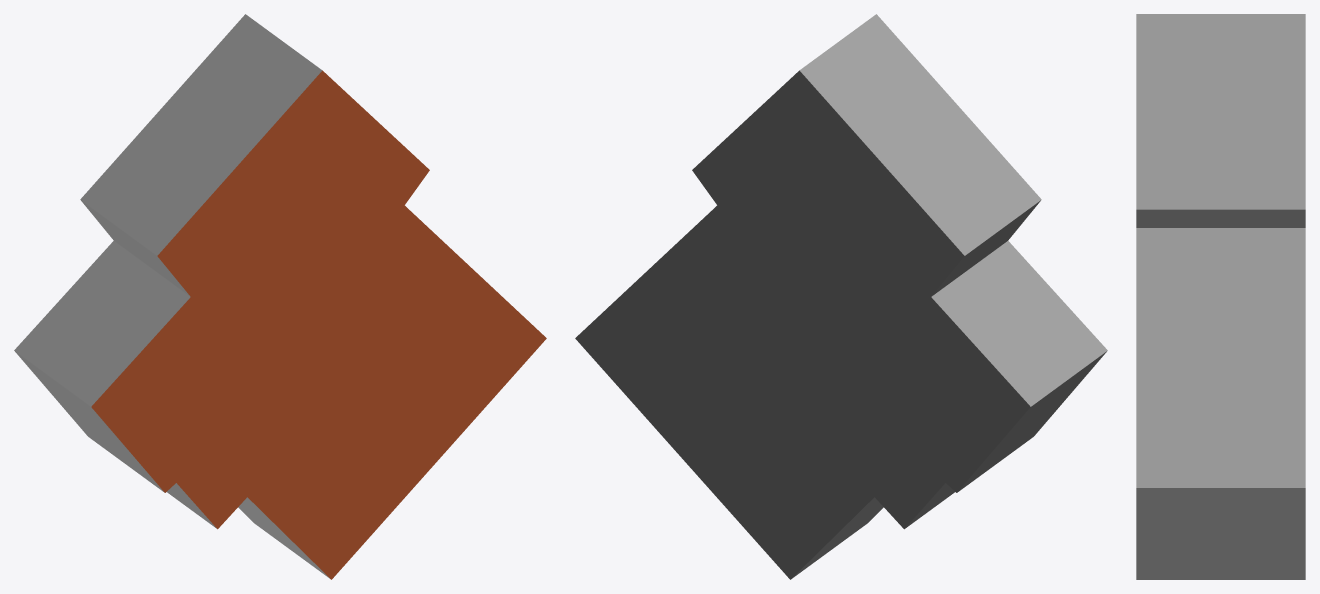
File: construction_2954_assumed_A_Casa_h6m.obj
The picture shows the model from 3 angles, left to right: view 1: azimuth 30°, elevation 25°; view 2: azimuth 150°, elevation 25°; view 3: azimuth 270°, elevation 25°; orthographic projection. The views are drawn at different scales.
Parts seen in each view (by area): view 1: construction_2954_assumed_A_Casa; view 2: construction_2954_assumed_A_Casa; view 3: construction_2954_assumed_A_Casa.
Boxes of the visible parts, x1,y1,x2,y2 form: construction_2954_assumed_A_Casa: (14, 14, 546, 579); construction_2954_assumed_A_Casa: (575, 14, 1107, 579); construction_2954_assumed_A_Casa: (1136, 14, 1305, 579).
Size of the model in its own units: 20.49 by 21.98 by 6.
